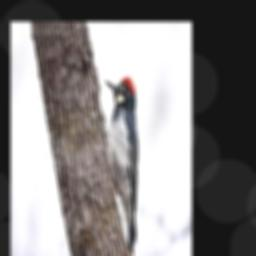Woodpecker: (104, 76, 138, 255)
